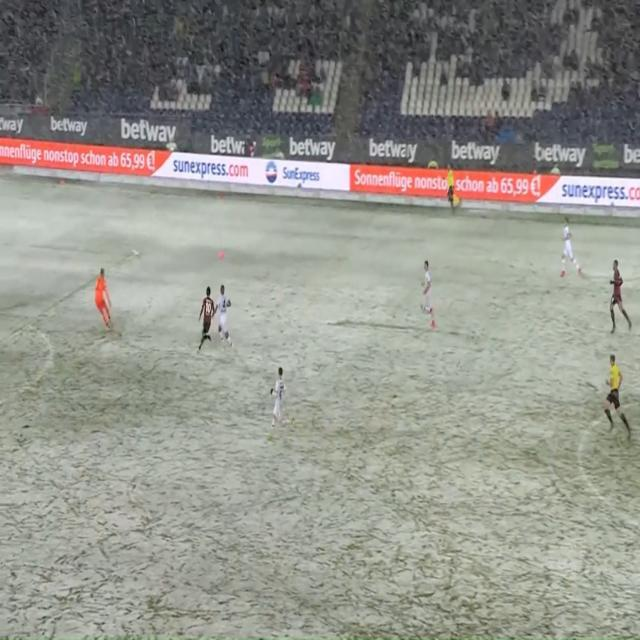ball: (217, 246, 227, 265)
player: (603, 257, 634, 337), (557, 213, 584, 283), (267, 363, 293, 433), (416, 255, 438, 331), (214, 280, 235, 352), (194, 278, 214, 353)
referee: (603, 352, 634, 442), (90, 262, 115, 333), (442, 160, 462, 218)
